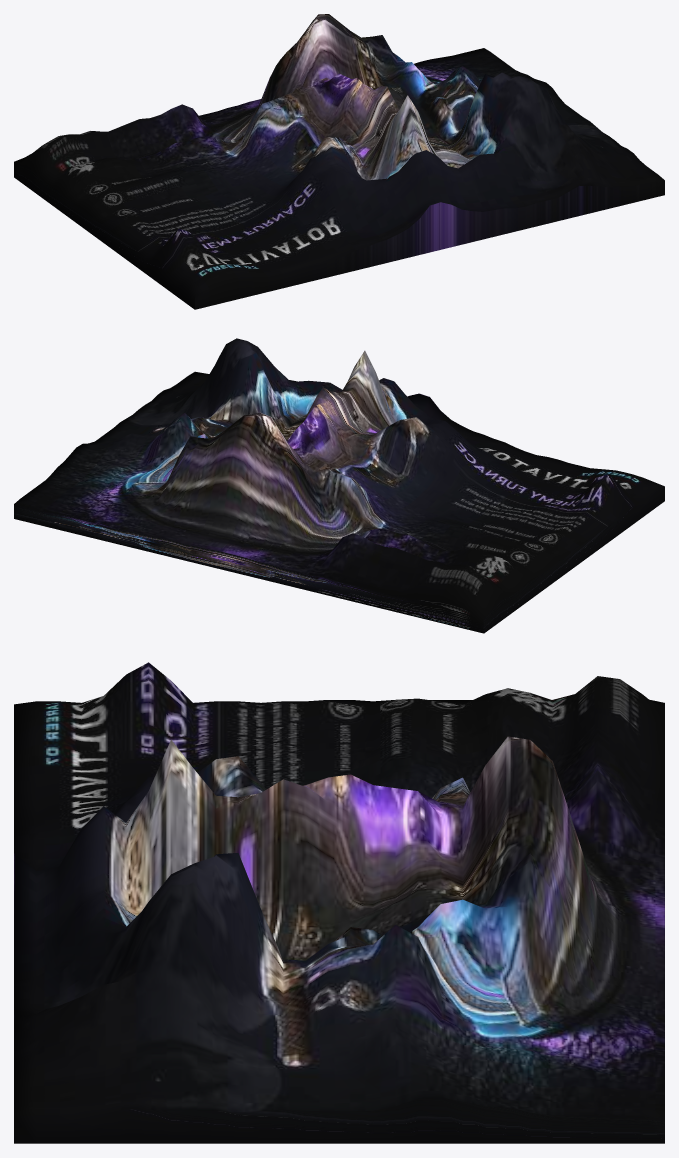
Rendered from CAREER_07_Tool_05_Furnace.glb.
The picture shows the model from 3 angles, top to bottom: view 1: azimuth 30°, elevation 25°; view 2: azimuth 150°, elevation 25°; view 3: azimuth 270°, elevation 25°; orthographic projection. The views are drawn at different scales.
Parts seen in each view (by area): view 1: CAREER_07_Tool_05_Furnace; view 2: CAREER_07_Tool_05_Furnace; view 3: CAREER_07_Tool_05_Furnace.
Part boxes in pixels (x1,y1,x2,y2): CAREER_07_Tool_05_Furnace: (14, 14, 664, 309); CAREER_07_Tool_05_Furnace: (14, 338, 664, 633); CAREER_07_Tool_05_Furnace: (14, 662, 664, 1143).
Size of the model in its own units: 2 by 0.51 by 1.33.
Materials: 1 (1 with a texture image).
